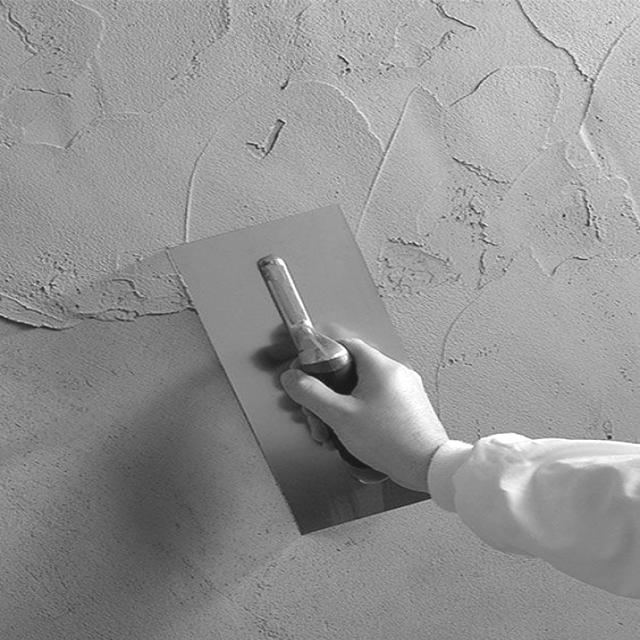trowels marks: (0, 0, 640, 445)
